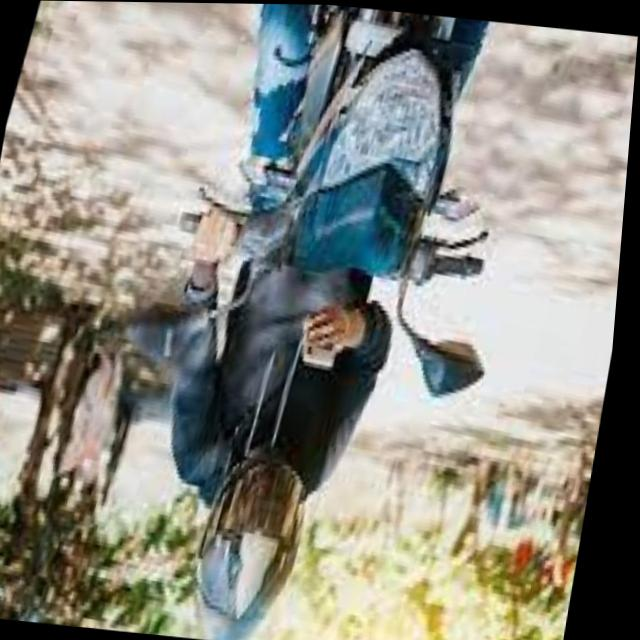USING_MOBILE: (183, 269, 410, 640)
